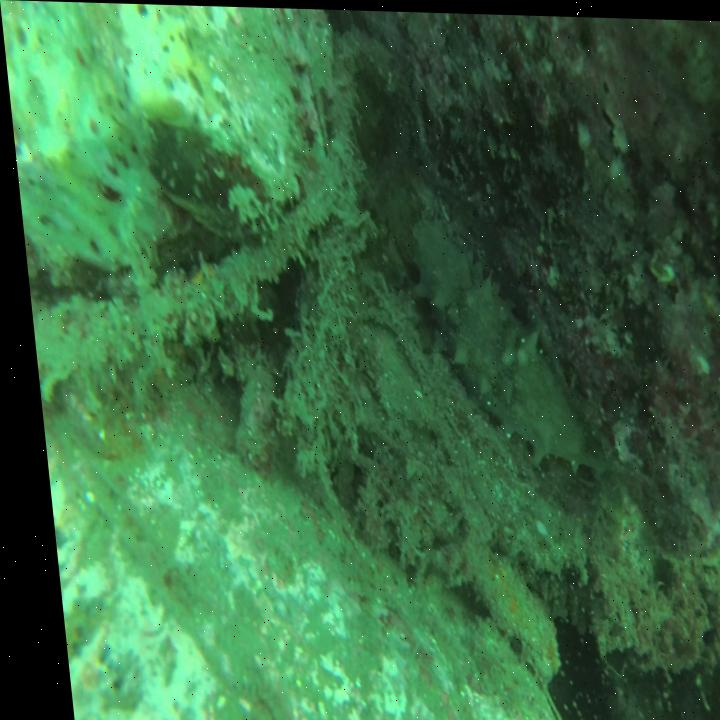holothurian: (397, 205, 588, 467)
